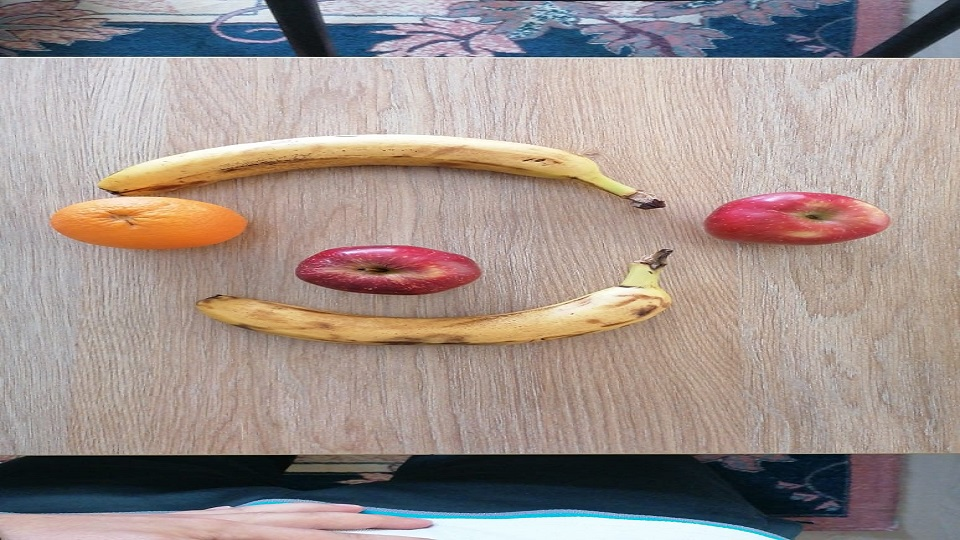elma: (704, 191, 891, 245), (295, 245, 482, 296)
muz: (97, 136, 638, 197), (197, 283, 673, 347)
portakal: (50, 194, 248, 252)
